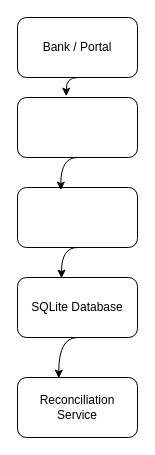
Some shapes in this 155 by 455 pixel diagram are drawn without their labels. Each missing label, with the box of its shape:
Payments API: (16, 96, 138, 158)
Validation Layer: (16, 186, 138, 248)
